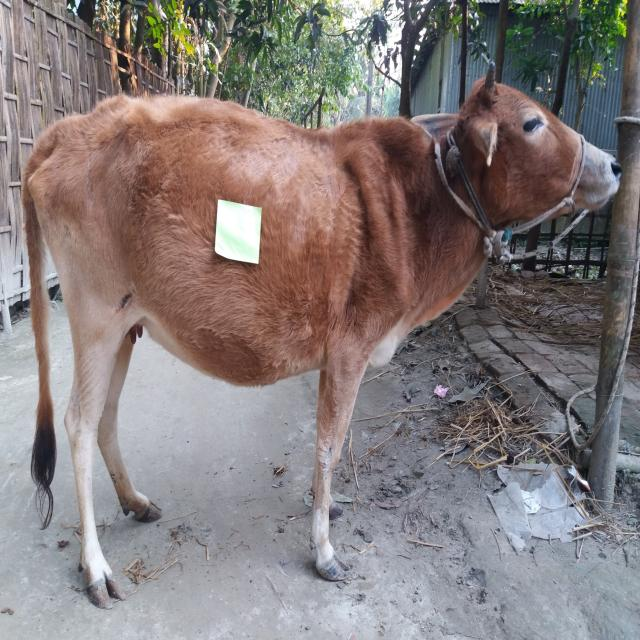badan_sapi: (59, 125, 372, 387)
sapi: (17, 62, 626, 621)
